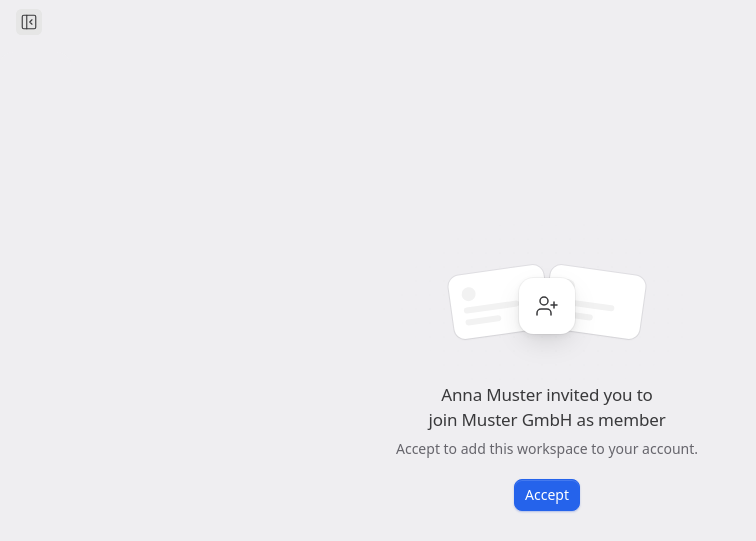
Test: an email mismatch shows the invited address and offers Sign out
Later steps or results of the test are not shown.
What coordinates should you click on to do the following:
click the button "Accept"
I would click on:
 (547, 494)
Its box is 514,478 -> 580,510.
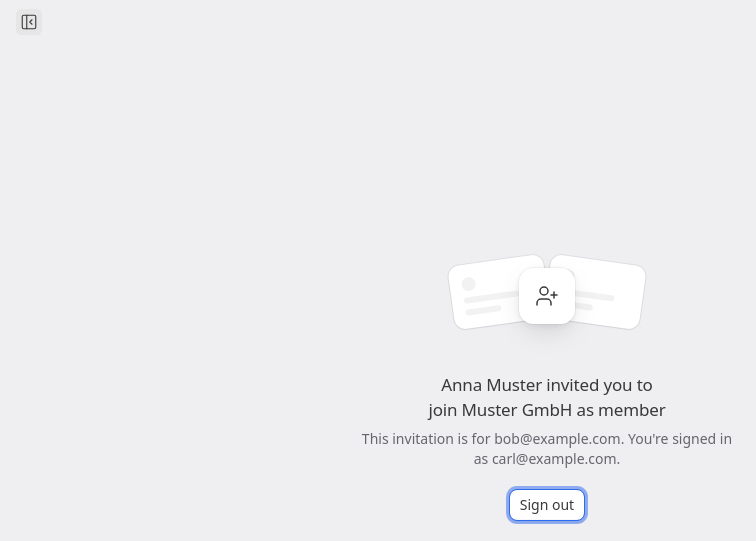
Expected: the text "This invitation is for bob@example.com. You're signed in as carl@example.com." is shown, 355,428 -> 739,468
